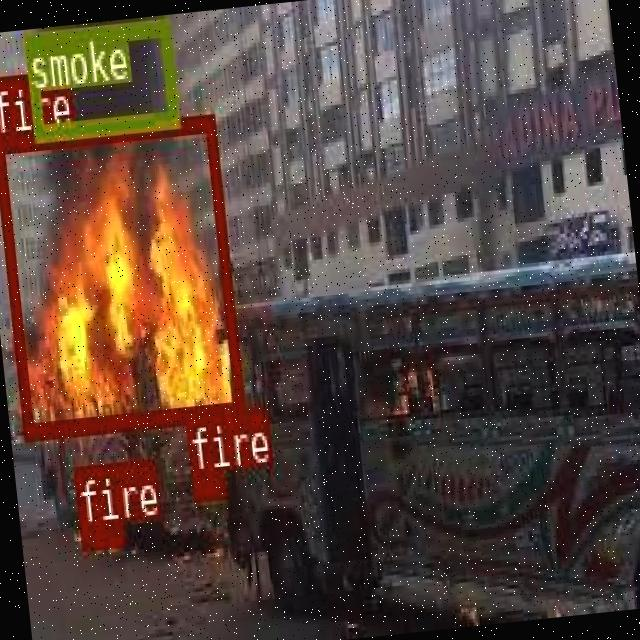fire: (0, 112, 242, 437), (78, 520, 122, 548), (188, 466, 222, 496)
smoke: (22, 16, 177, 138)
